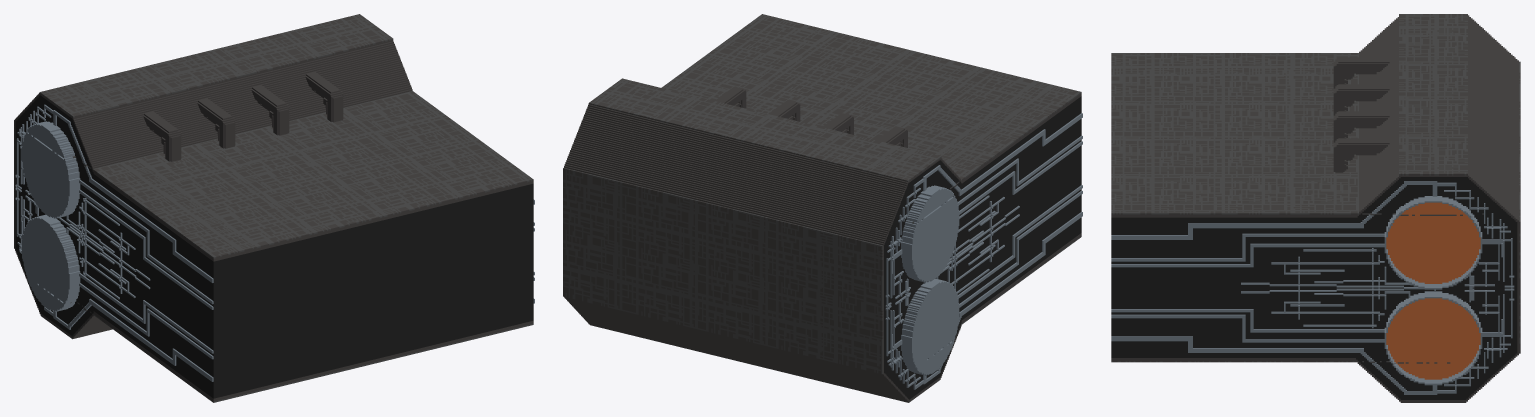
File: Space ship-2.obj
3 renders of one model, left to right at view 1: azimuth 30°, elevation 25°; view 2: azimuth 150°, elevation 25°; view 3: azimuth 270°, elevation 25°, orthographic. The views are drawn at different scales.
Bounding box in the file's own units: 25.3 × 15.8 × 25.6.
1 material, 1 textured.
